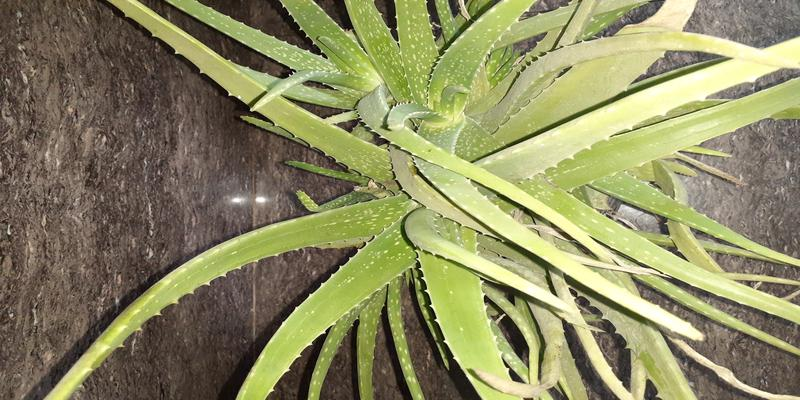Aloevera: (217, 25, 750, 372)
